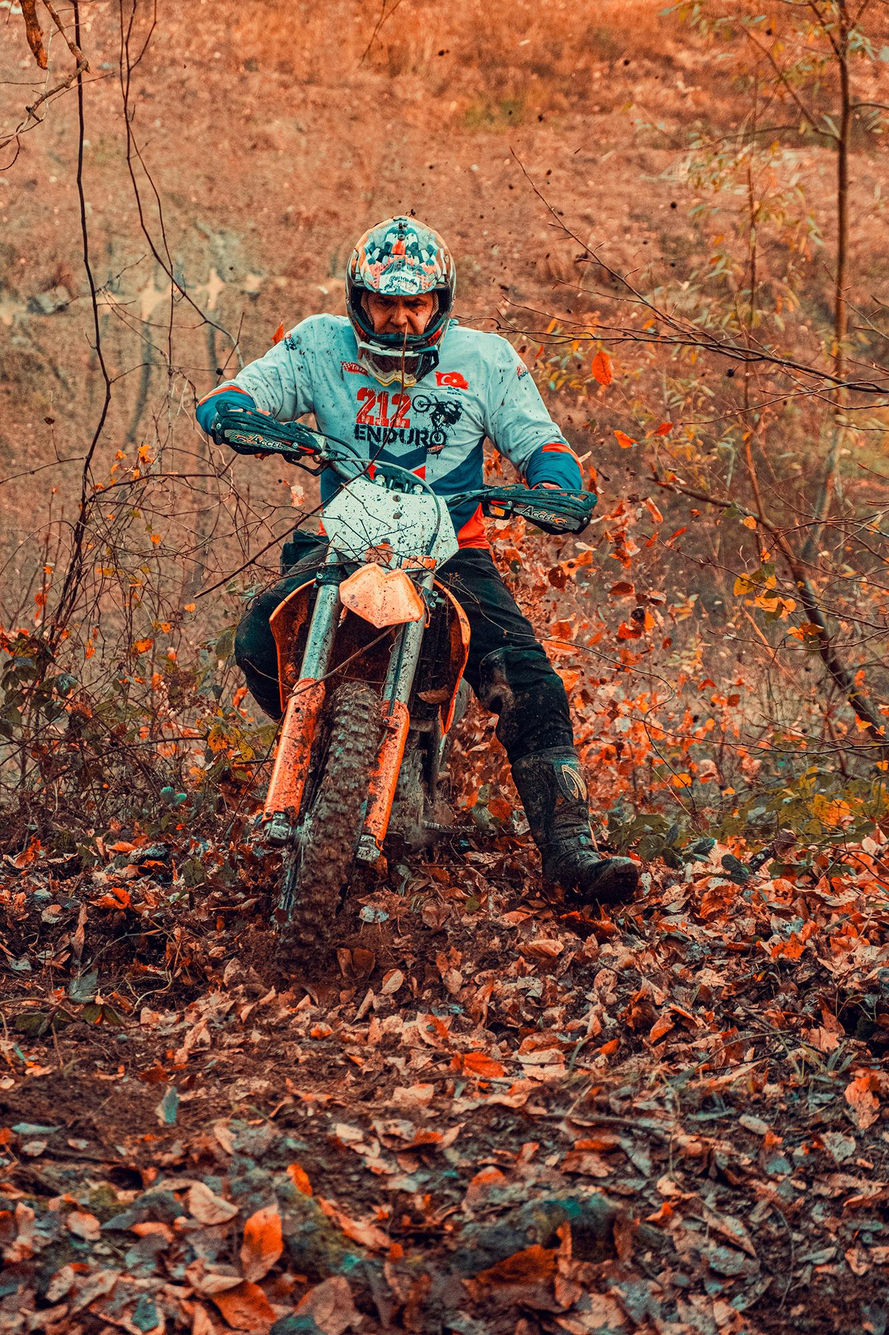helmet: (345, 214, 457, 389)
